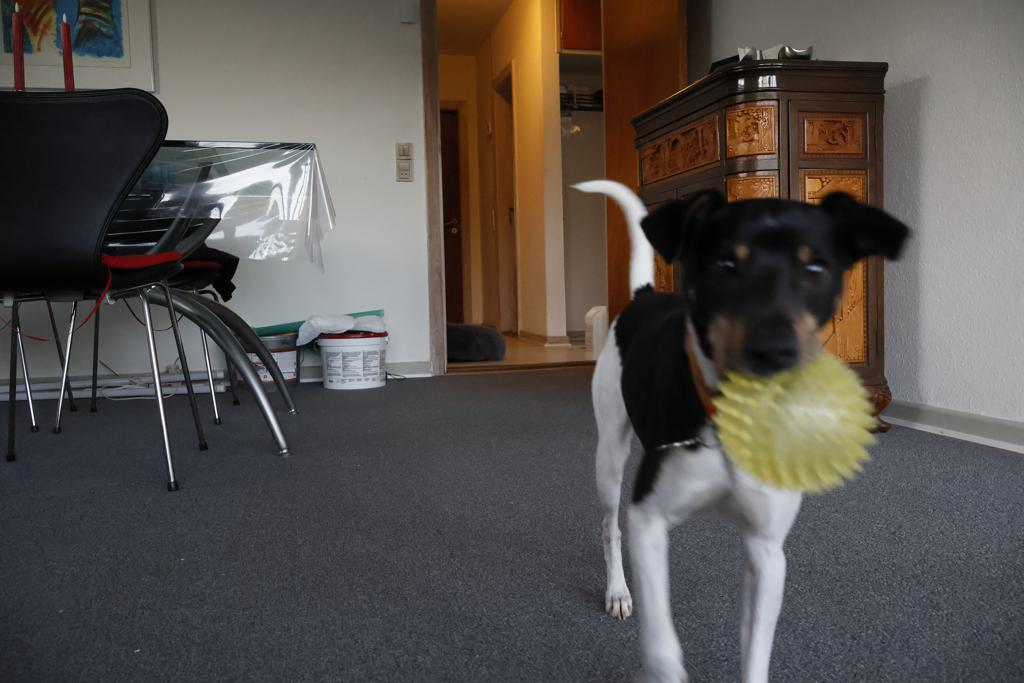Dog: (553, 152, 926, 683)
